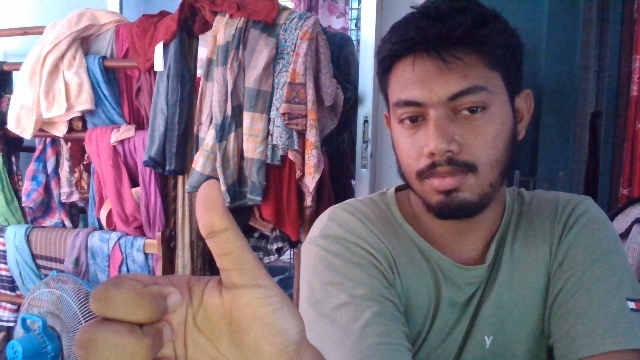yes: (75, 176, 307, 360)
